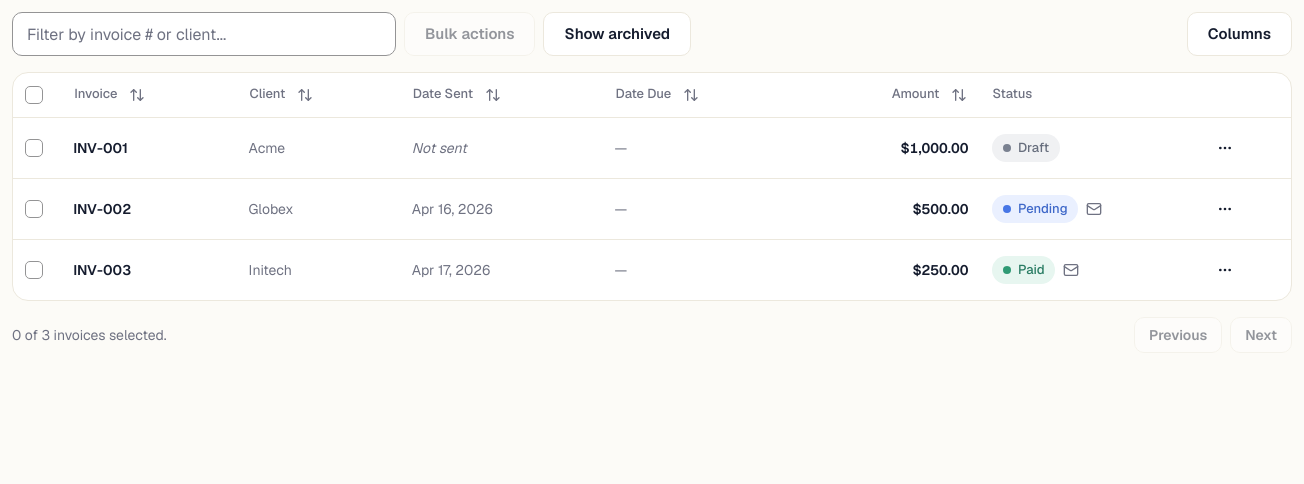
Test: InvoiceDataTable — per-row actions › shows 'Edit' and the three ways to send for draft invoices, with no Publish only
The width and height of the screenshot is (1304, 484).
Note: open first row's dropdown (inv-1 is a draft)
Click the button named "open menu" in the row of "INV-001".
click(1225, 148)  # box [1207,130,1243,166]
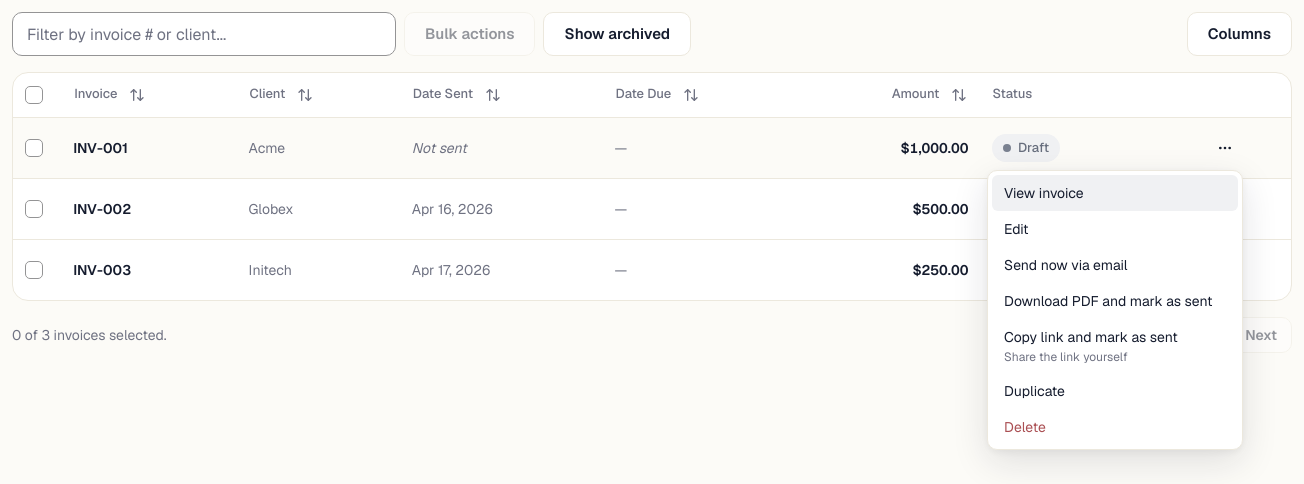
Check: the menu item "Edit" is shown, box [1004,220,1029,238]
Check: the menu item "Send now via email" is shown, box [1004,256,1128,274]
Check: the menu item "Download PDF and mark as sent" is shown, box [1004,292,1212,310]
